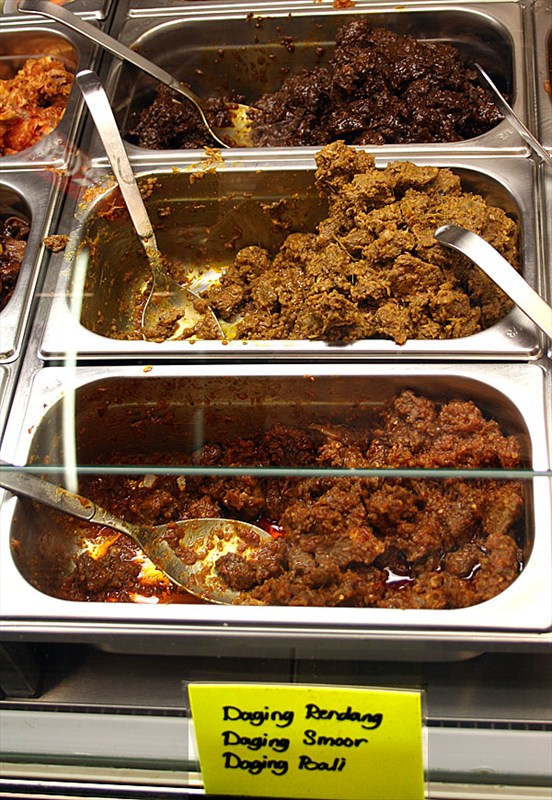Rendang: (50, 125, 495, 768)
